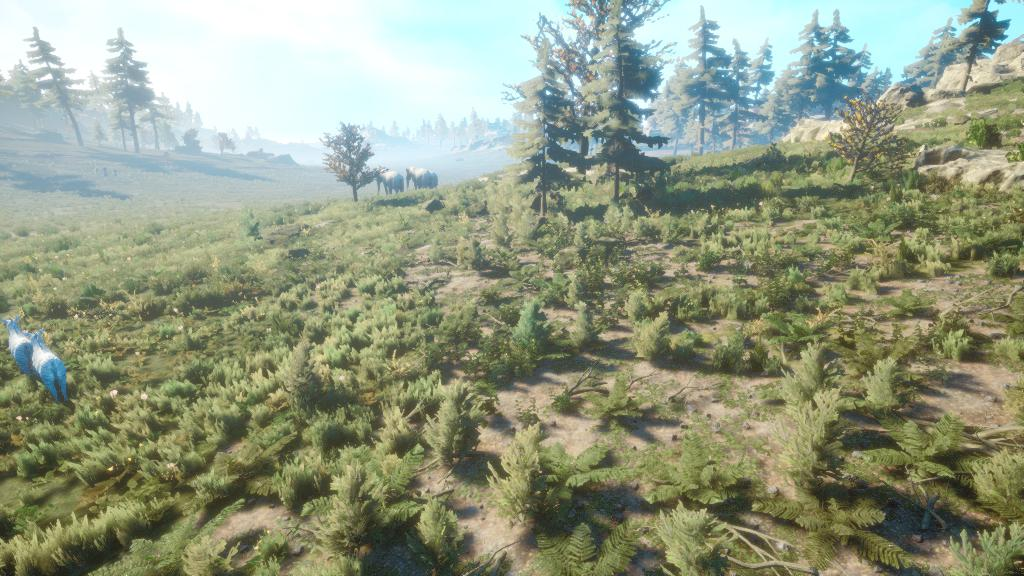elephant: (366, 169, 409, 200)
zebra: (26, 326, 81, 408), (2, 309, 29, 381)
